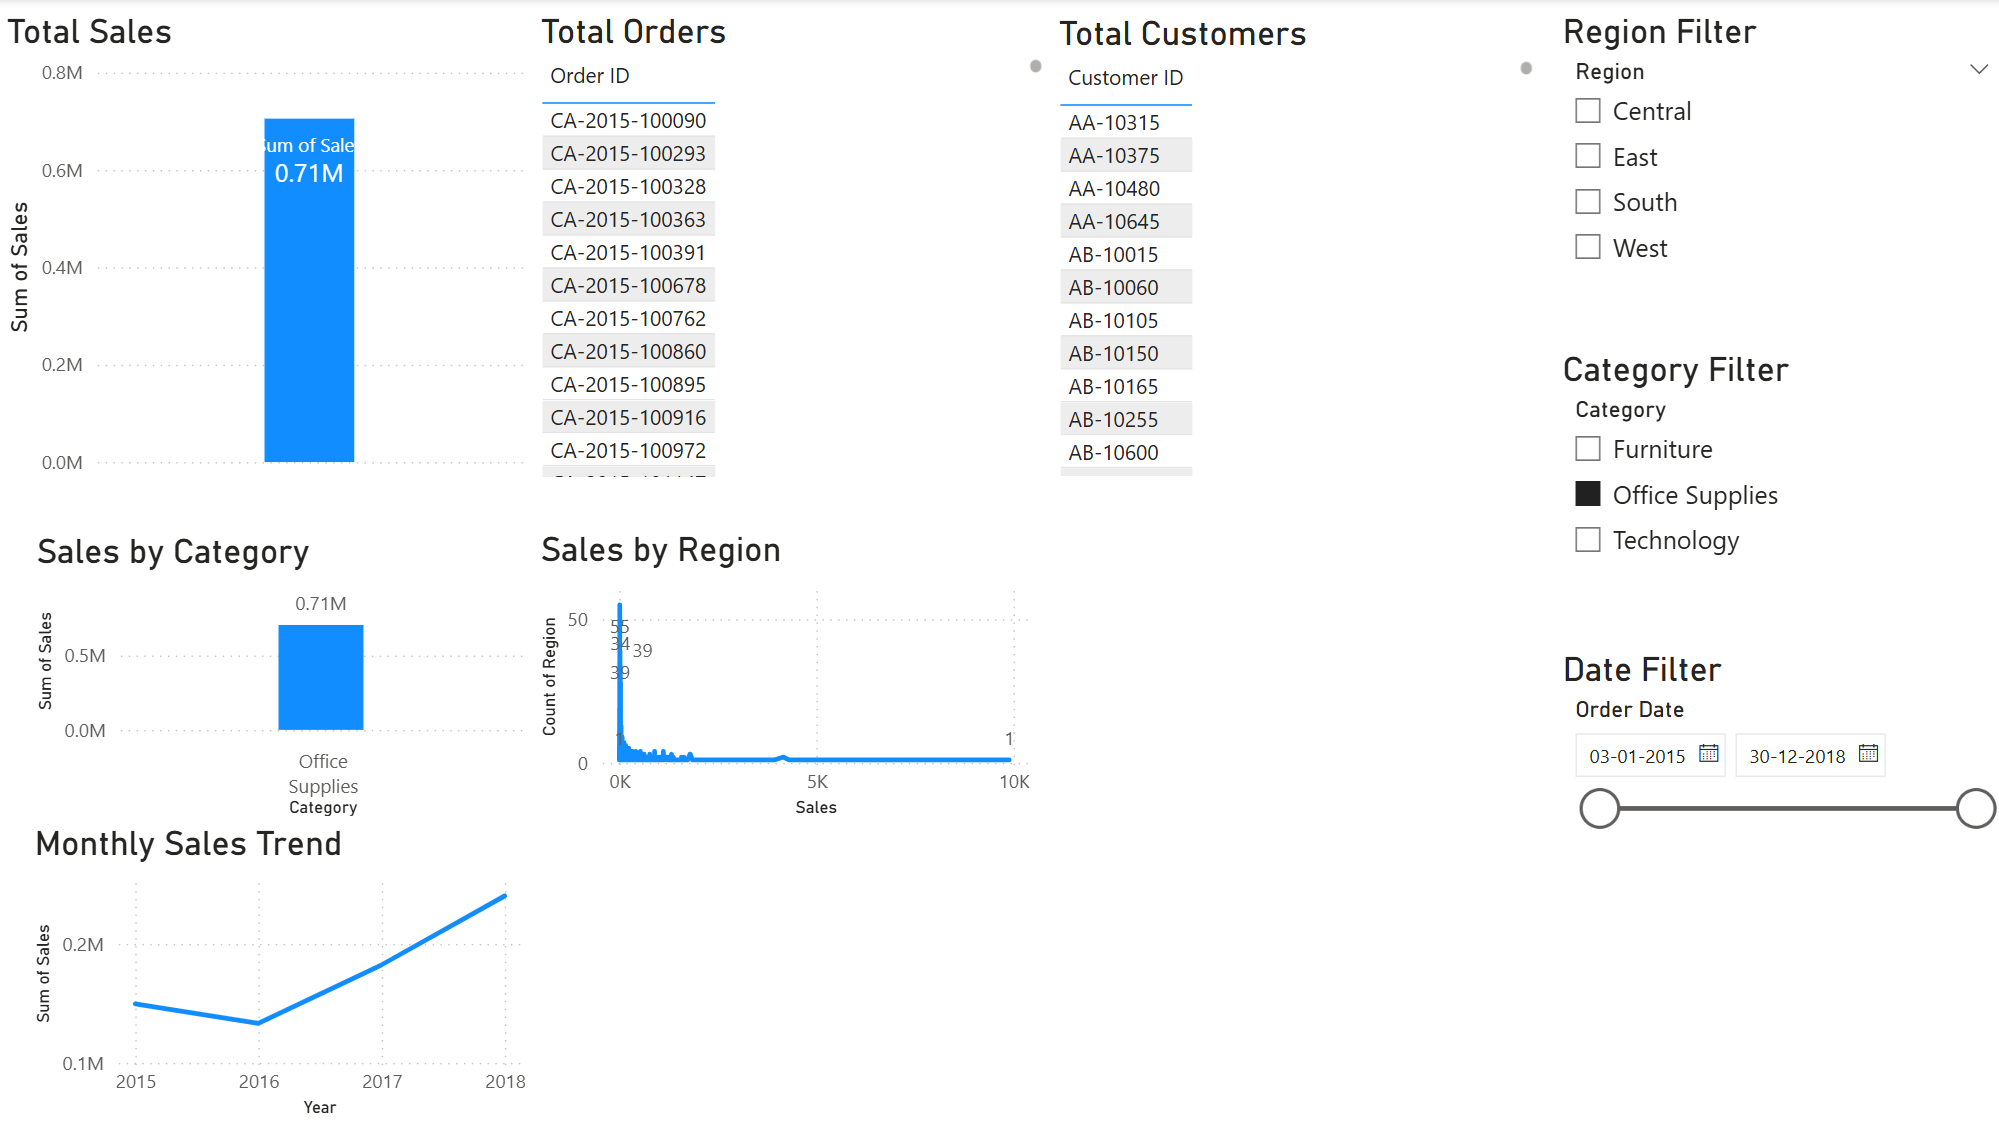

The dashboard page shown, as its layout file describes it:
{"tool":"powerbi","page":{"name":"Page 1","canvas":[1280,720],"ordinal":0},"visuals":[{"type":"clusteredColumnChart","title":"Total Sales","fields":{"Y":["train.Sales"]},"box":[0,8.9,340.4,300.9],"z":0},{"type":"tableEx","title":"Total Orders","fields":{"Values":["train.Order ID"]},"box":[340.4,8.9,330.2,300.9],"z":1000},{"type":"tableEx","title":"Total Customers","fields":{"Values":["train.Customer ID"]},"box":[670.6,10.2,312.4,299.6],"z":2000},{"type":"lineChart","title":"Sales by Region","fields":{"Category":["train.Sales"],"Y":["train.Region"]},"box":[340.4,339.1,321.3,187.4],"z":4000},{"type":"lineChart","title":"Monthly Sales Trend","fields":{"Category":["train.Order Date.Variation.Date Hierarchy.Year","train.Order Date.Variation.Date Hierarchy.Quarter","train.Order Date.Variation.Date Hierarchy.Month","train.Order Date.Variation.Date Hierarchy.Day"],"Y":["train.Sales"]},"box":[17.8,526.5,322.5,191.2],"z":5000},{"type":"clusteredColumnChart","title":"Sales by Category","fields":{"Category":["train.Category"],"Y":["train.Sales"]},"box":[19.1,340.4,321.3,186.1],"z":6000},{"type":"slicer","title":"Region Filter","fields":{"Values":["train.Region"]},"box":[991.9,8.9,289.4,215.5],"z":7000},{"type":"slicer","title":"Category Filter","fields":{"Values":["train.Category"]},"box":[991.9,224.4,288.1,191.2],"z":8000},{"type":"slicer","title":"Date Filter","fields":{"Values":["train.Order Date"]},"box":[991.9,415.6,289.4,277.9],"z":9000}]}

Visuals, with their boxes in screenshot pixels (x1, y1, x2, y2), scaled from the page's 1280x720 canvas onto the 1999x1127 screenshot:
"Total Sales" clusteredColumnChart: region(0, 14, 532, 485)
"Total Orders" tableEx: region(532, 14, 1047, 485)
"Total Customers" tableEx: region(1047, 16, 1535, 485)
"Sales by Region" lineChart: region(532, 531, 1033, 824)
"Monthly Sales Trend" lineChart: region(28, 824, 531, 1123)
"Sales by Category" clusteredColumnChart: region(30, 533, 532, 824)
"Region Filter" slicer: region(1549, 14, 1998, 351)
"Category Filter" slicer: region(1549, 351, 1998, 651)
"Date Filter" slicer: region(1549, 651, 1998, 1086)
